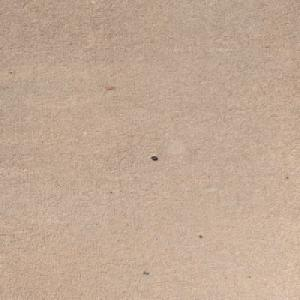Nut: (150, 155, 157, 159)
